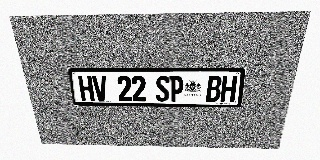2: (117, 76, 132, 101), (131, 76, 146, 101)
B: (206, 76, 222, 102)
H: (220, 76, 237, 102), (78, 76, 95, 101)
P: (170, 76, 184, 102)
S: (155, 76, 169, 102)
V: (92, 76, 108, 101)
